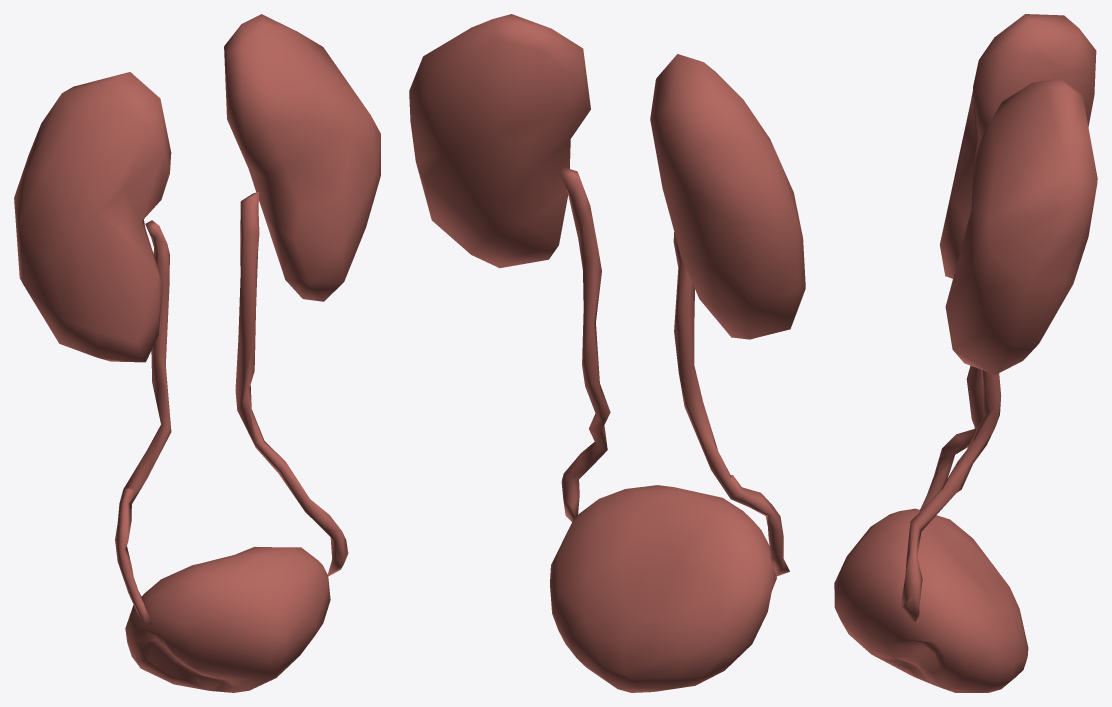
File: pediatric_infant_male.urinary.LOD2.glb
3 views of the same model, side by side, from view 1: azimuth 30°, elevation 25°; view 2: azimuth 150°, elevation 25°; view 3: azimuth 270°, elevation 25° (orthographic). The views are drawn at different scales.
Visible parts, largest first — view 1: PEDIATRIC.INFANT.MALE.URINARY.KIDNEY_CORTEX.R, PEDIATRIC.INFANT.MALE.URINARY.KIDNEY_CORTEX.L, PEDIATRIC.INFANT.MALE.URINARY.URINARY_BLADDER_WALL, PEDIATRIC.INFANT.MALE.URINARY.URETER.L, PEDIATRIC.INFANT.MALE.URINARY.URETER.R; view 2: PEDIATRIC.INFANT.MALE.URINARY.URINARY_BLADDER_WALL, PEDIATRIC.INFANT.MALE.URINARY.KIDNEY_CORTEX.L, PEDIATRIC.INFANT.MALE.URINARY.KIDNEY_CORTEX.R, PEDIATRIC.INFANT.MALE.URINARY.URETER.L, PEDIATRIC.INFANT.MALE.URINARY.URETER.R; view 3: PEDIATRIC.INFANT.MALE.URINARY.KIDNEY_CORTEX.L, PEDIATRIC.INFANT.MALE.URINARY.URINARY_BLADDER_WALL, PEDIATRIC.INFANT.MALE.URINARY.KIDNEY_CORTEX.R, PEDIATRIC.INFANT.MALE.URINARY.URETER.L, PEDIATRIC.INFANT.MALE.URINARY.URETER.R.
Boxes of the visible parts, x1,y1,x2,y2 form: PEDIATRIC.INFANT.MALE.URINARY.KIDNEY_CORTEX.R: (14,72,171,362); PEDIATRIC.INFANT.MALE.URINARY.KIDNEY_CORTEX.L: (224,14,380,301); PEDIATRIC.INFANT.MALE.URINARY.URINARY_BLADDER_WALL: (125,546,330,692); PEDIATRIC.INFANT.MALE.URINARY.URETER.L: (235,192,348,576); PEDIATRIC.INFANT.MALE.URINARY.URETER.R: (115,220,171,625); PEDIATRIC.INFANT.MALE.URINARY.URINARY_BLADDER_WALL: (550,485,776,692); PEDIATRIC.INFANT.MALE.URINARY.KIDNEY_CORTEX.L: (409,14,590,268); PEDIATRIC.INFANT.MALE.URINARY.KIDNEY_CORTEX.R: (650,54,805,339); PEDIATRIC.INFANT.MALE.URINARY.URETER.L: (560,167,610,521); PEDIATRIC.INFANT.MALE.URINARY.URETER.R: (673,232,789,576); PEDIATRIC.INFANT.MALE.URINARY.KIDNEY_CORTEX.L: (945,78,1097,374); PEDIATRIC.INFANT.MALE.URINARY.URINARY_BLADDER_WALL: (834,508,1028,692); PEDIATRIC.INFANT.MALE.URINARY.KIDNEY_CORTEX.R: (940,14,1096,278); PEDIATRIC.INFANT.MALE.URINARY.URETER.L: (900,370,1001,622); PEDIATRIC.INFANT.MALE.URINARY.URETER.R: (920,365,983,510).
Bounding box in the file's own units: 0.0972 × 0.1649 × 0.0612.
